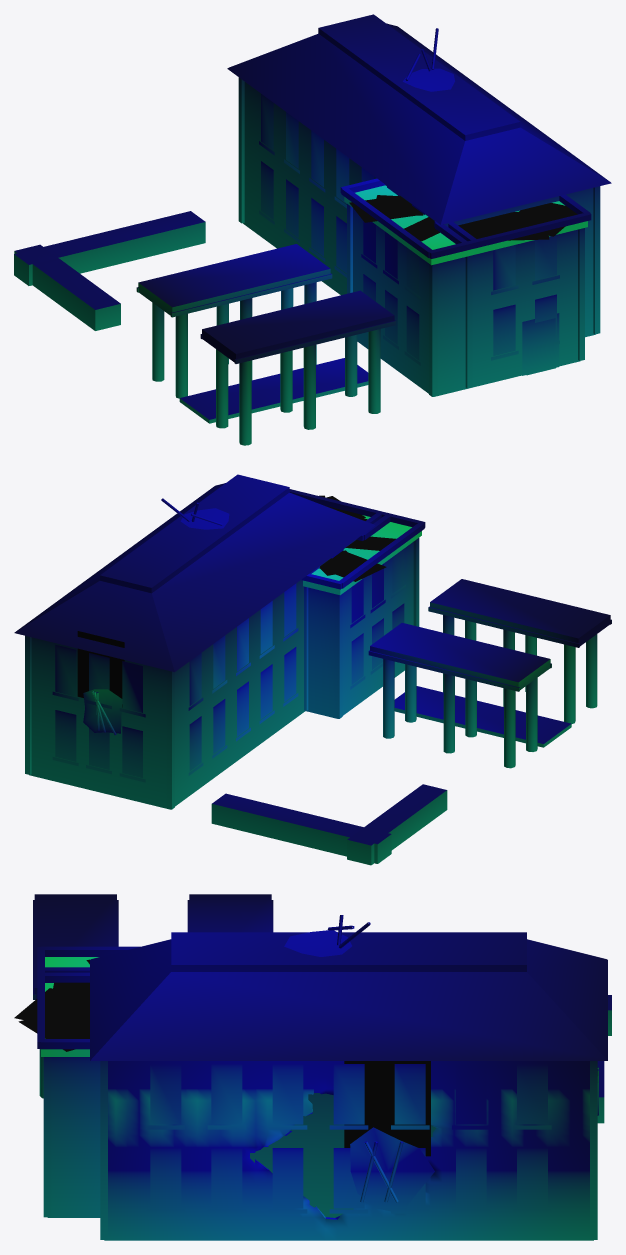
File: s_gov2_damaged.glb
3 renders of one model, top to bottom at view 1: azimuth 30°, elevation 25°; view 2: azimuth 150°, elevation 25°; view 3: azimuth 270°, elevation 25°, orthographic. The views are drawn at different scales.
Visible parts, largest first — view 1: lod0; view 2: lod0; view 3: lod0.
Boxes of the visible parts, x1,y1,x2,y2 form: lod0: (14,14,611,445); lod0: (14,474,611,865); lod0: (14,894,611,1240).
Size of what is drawn, in the model's own units: 21.7 by 12.39 by 23.2.
